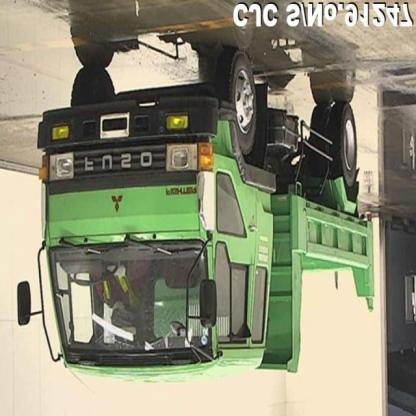truck: (16, 50, 377, 384)
